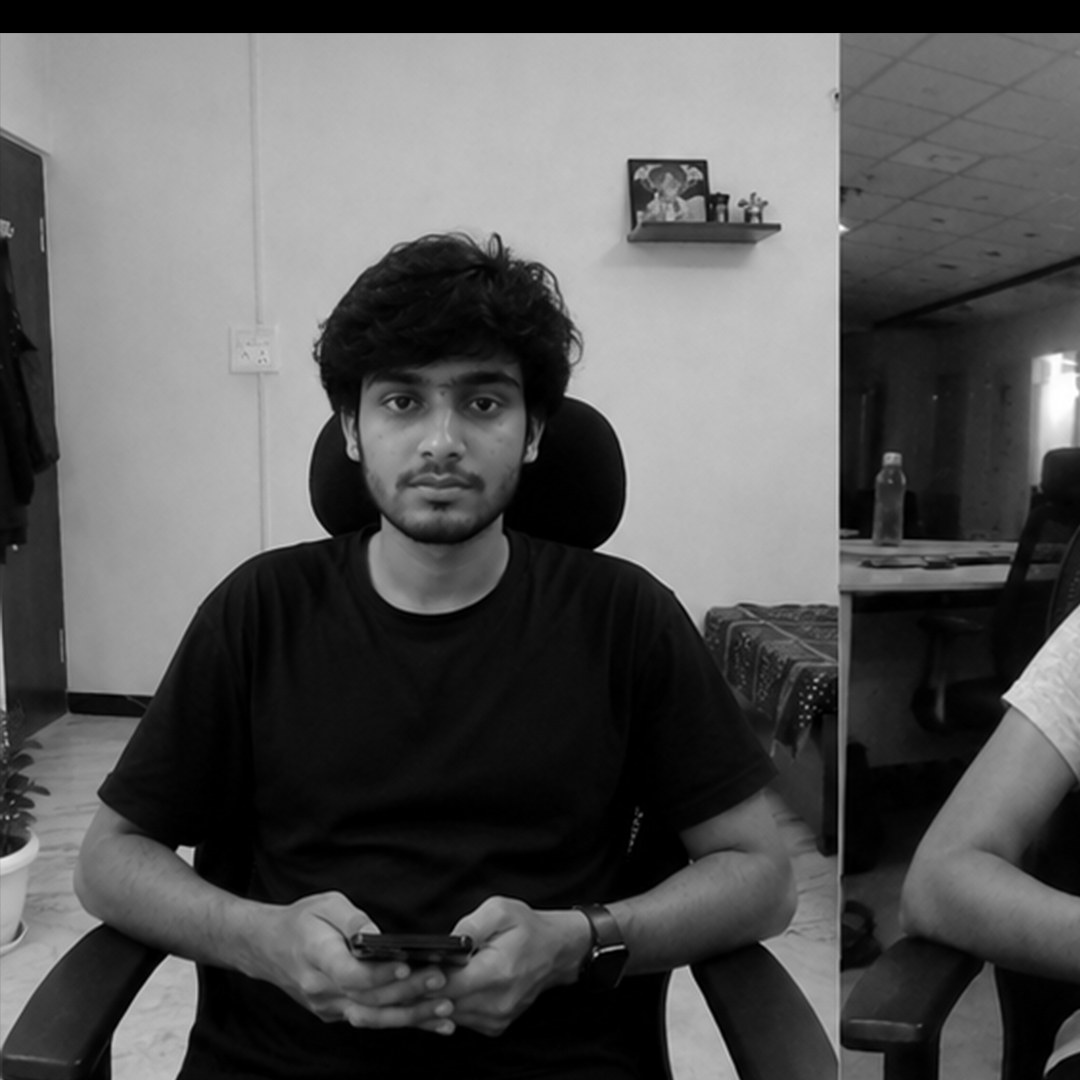Focused: (228, 164, 665, 998)
